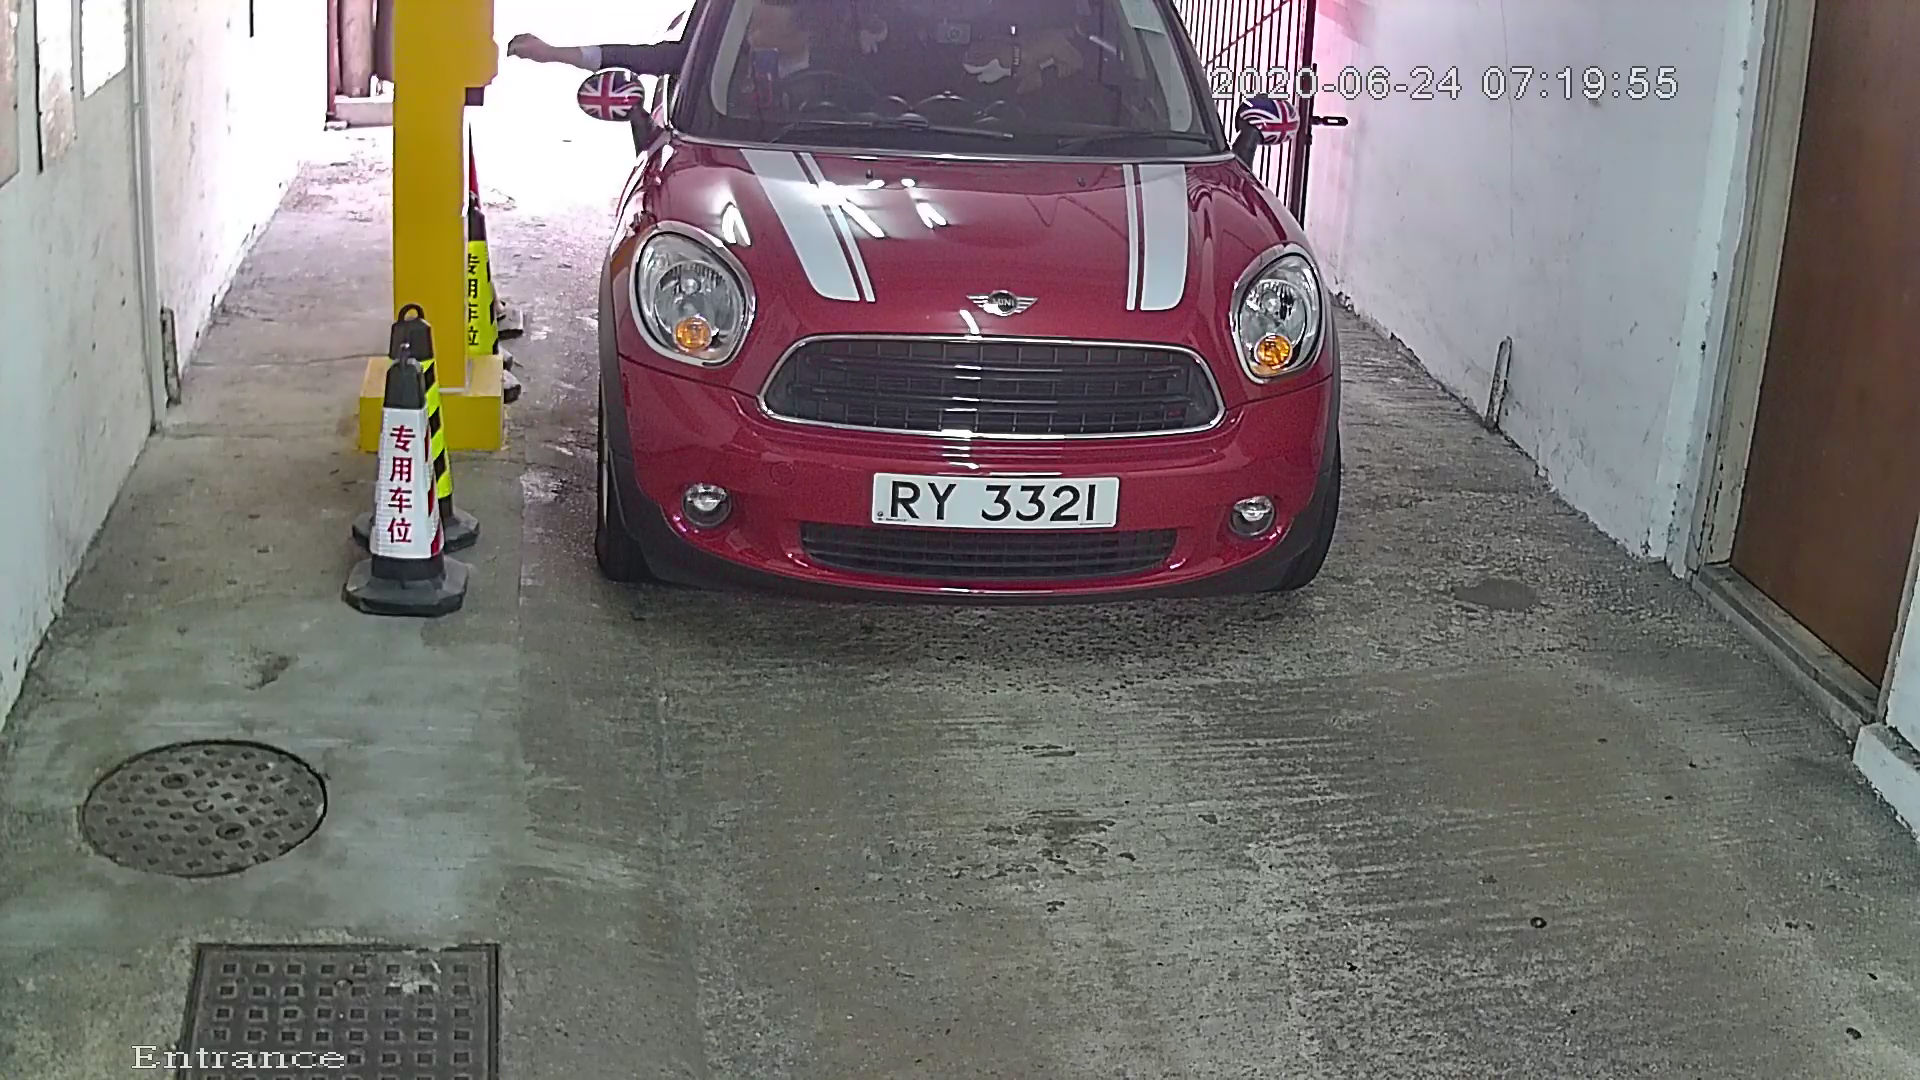privatecar: (566, 1, 1367, 640)
